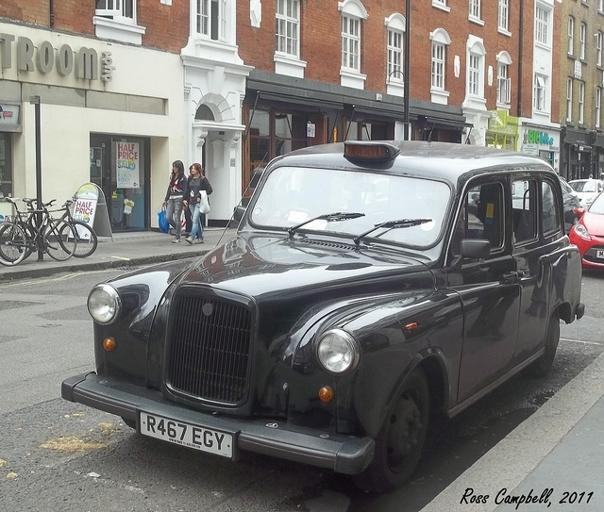non-vehicle: (0, 198, 97, 261), (0, 196, 77, 266)
